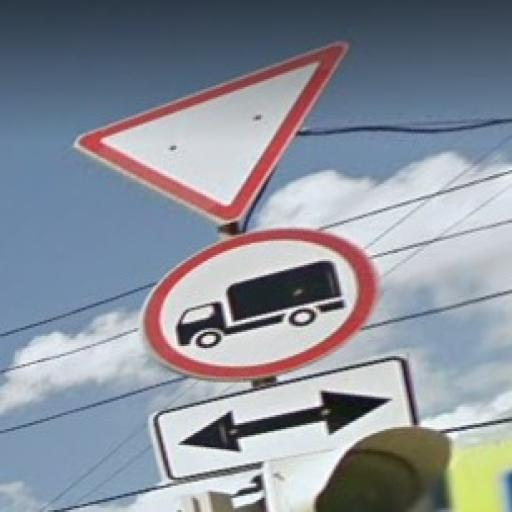traffic_sign: (74, 40, 354, 224), (141, 226, 382, 384)
